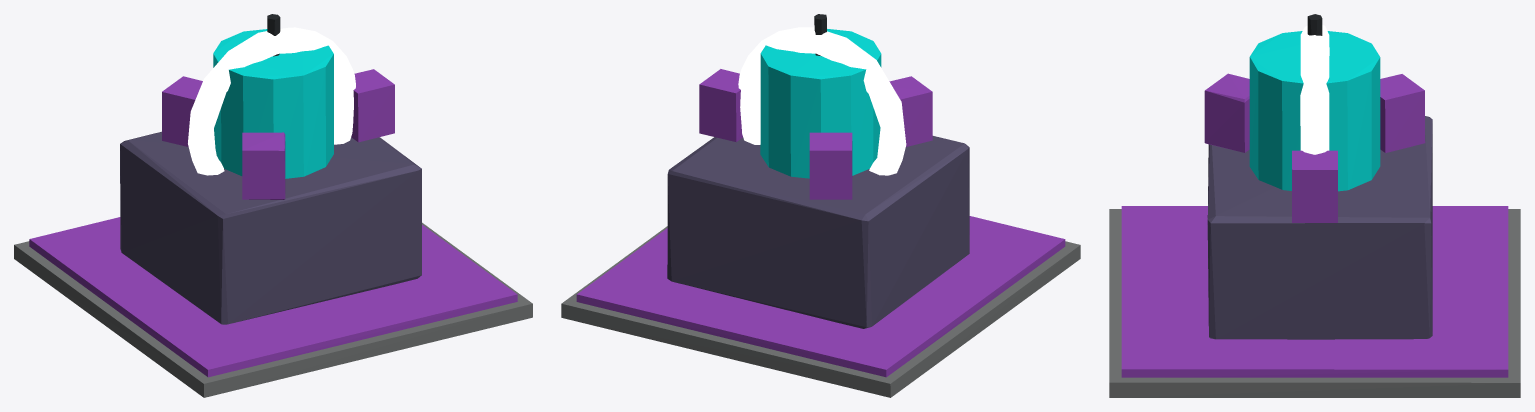
The model's file is SM_Chronolegion_CH_ConYard_LOD2.fbx.
The picture shows the model from 3 angles, left to right: view 1: azimuth 30°, elevation 25°; view 2: azimuth 150°, elevation 25°; view 3: azimuth 270°, elevation 25°; orthographic projection. The views are drawn at different scales.
Parts seen in each view (by area): view 1: LOD02_SM_Chronolegion_CH_ConYard; view 2: LOD02_SM_Chronolegion_CH_ConYard; view 3: LOD02_SM_Chronolegion_CH_ConYard.
Part boxes in pixels (bbox=[...]): LOD02_SM_Chronolegion_CH_ConYard: bbox=[14, 14, 532, 397]; LOD02_SM_Chronolegion_CH_ConYard: bbox=[561, 14, 1080, 397]; LOD02_SM_Chronolegion_CH_ConYard: bbox=[1109, 14, 1520, 397].
Size of the model in its own units: 797 by 797 by 628.
